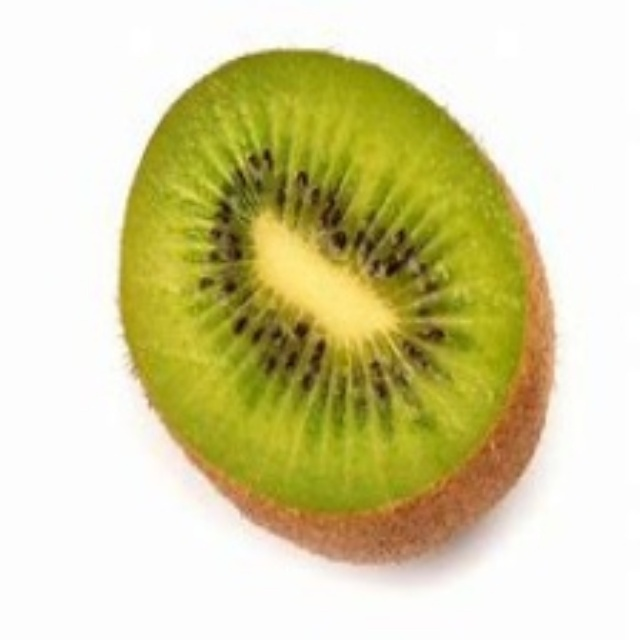kiwi: (118, 47, 565, 577)
